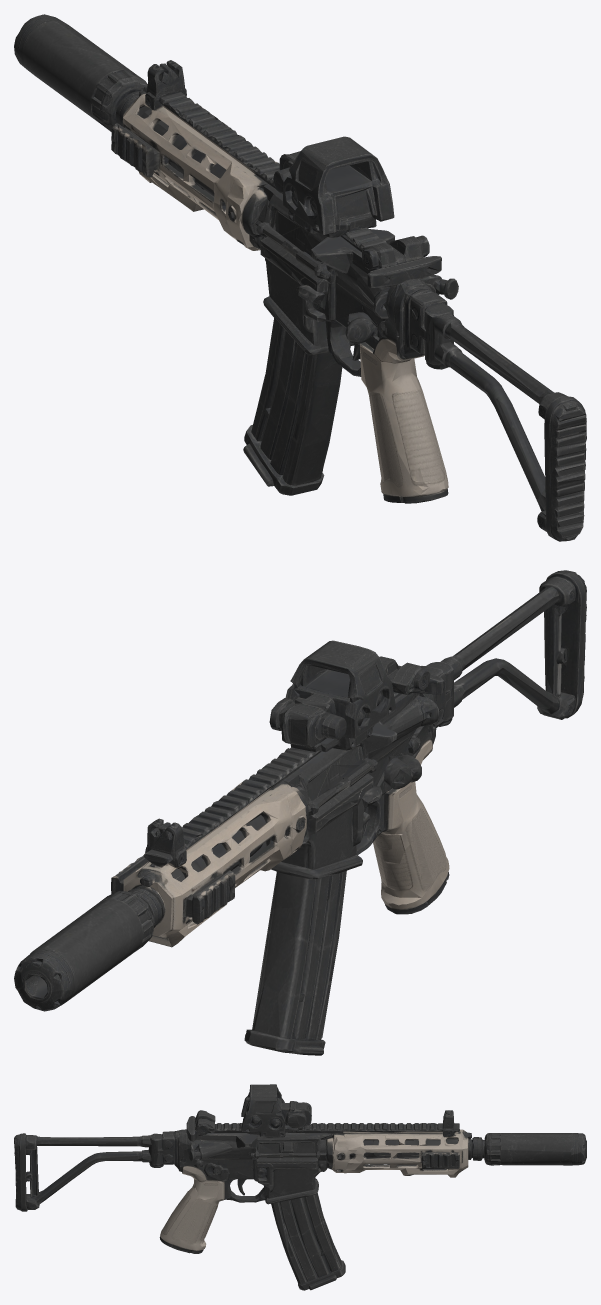
The model's file is rifle-smg.glb.
3 views of the same model, one above another, from view 1: azimuth 30°, elevation 25°; view 2: azimuth 150°, elevation 25°; view 3: azimuth 270°, elevation 25° (orthographic). The views are drawn at different scales.
Parts seen in each view (by area): view 1: output_unwrapped; view 2: output_unwrapped; view 3: output_unwrapped.
Part boxes in pixels (x1,y1,x2,y2): output_unwrapped: [14, 14, 586, 541]; output_unwrapped: [14, 570, 586, 1055]; output_unwrapped: [14, 1084, 586, 1290].
Bounding box in the file's own units: 0.0806 × 0.2857 × 0.7519.
Materials: 1 (1 with a texture image).
